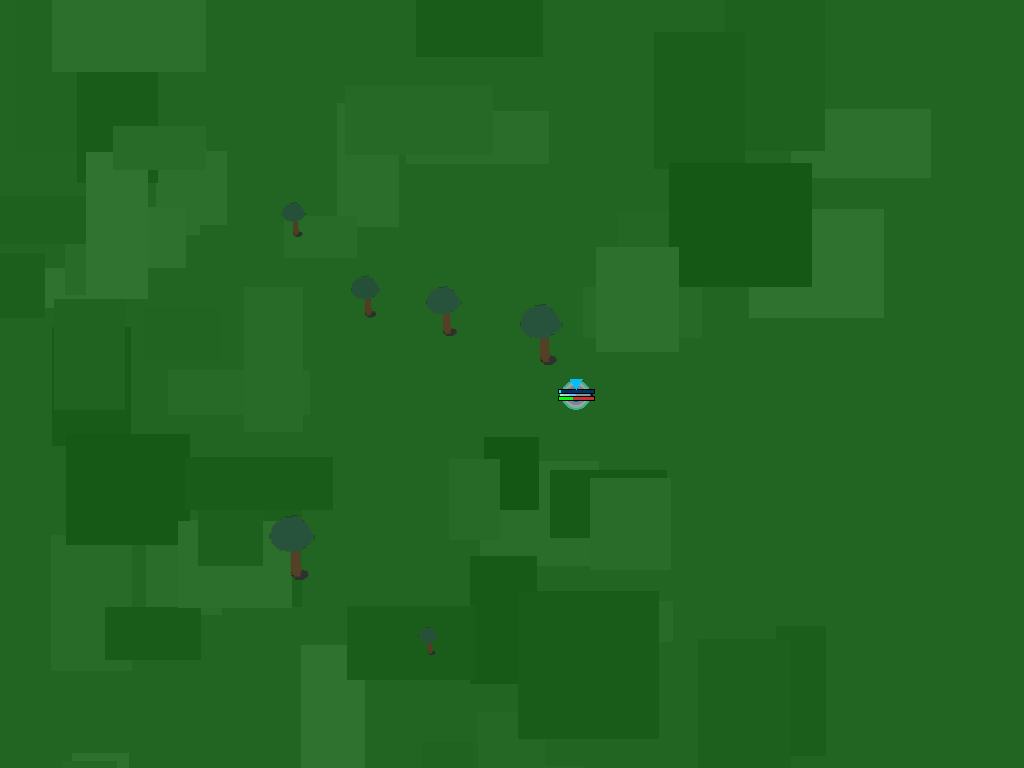Shotgunner: (555, 374, 597, 416)
